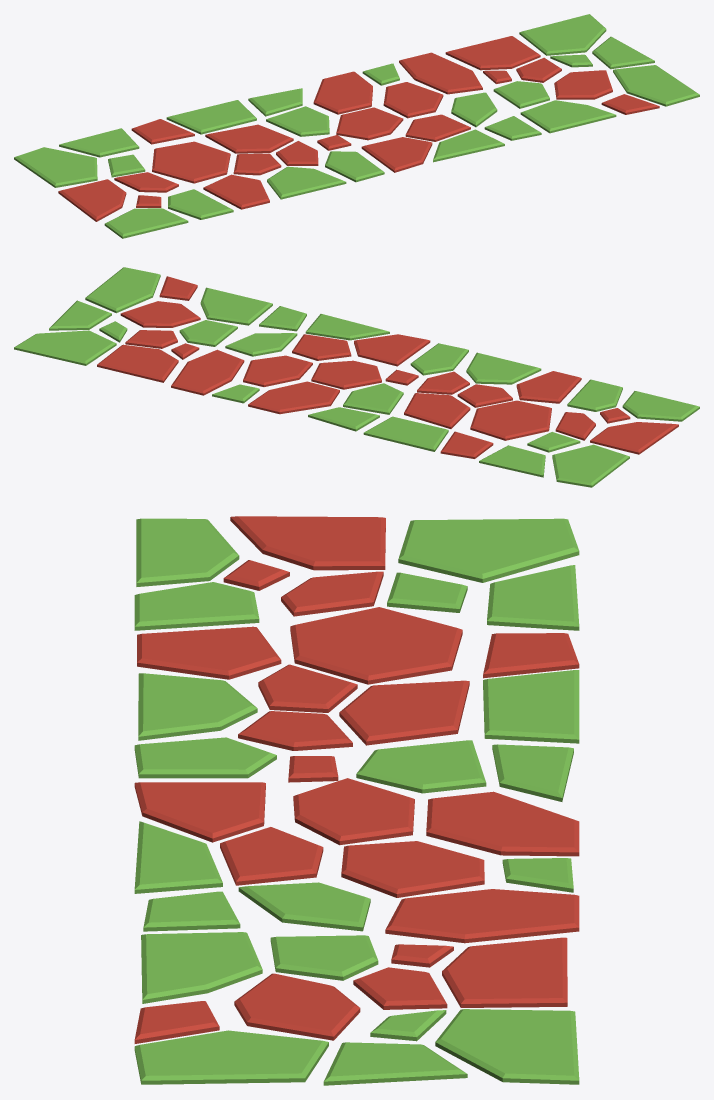
File: Stoneroad_a.gltf
3 renders of one model, top to bottom at view 1: azimuth 30°, elevation 25°; view 2: azimuth 150°, elevation 25°; view 3: azimuth 270°, elevation 25°, orthographic. The views are drawn at different scales.
Visible parts, largest first — view 1: Stoneroad_a001; view 2: Stoneroad_a001; view 3: Stoneroad_a001.
Part boxes in pixels (box(x1,y1,x2,y2)): Stoneroad_a001: box(14, 14, 699, 238); Stoneroad_a001: box(14, 267, 699, 487); Stoneroad_a001: box(134, 516, 579, 1085).
Size of the model in its own units: 3 by 0.0169 by 1.
1 material, 1 textured.
